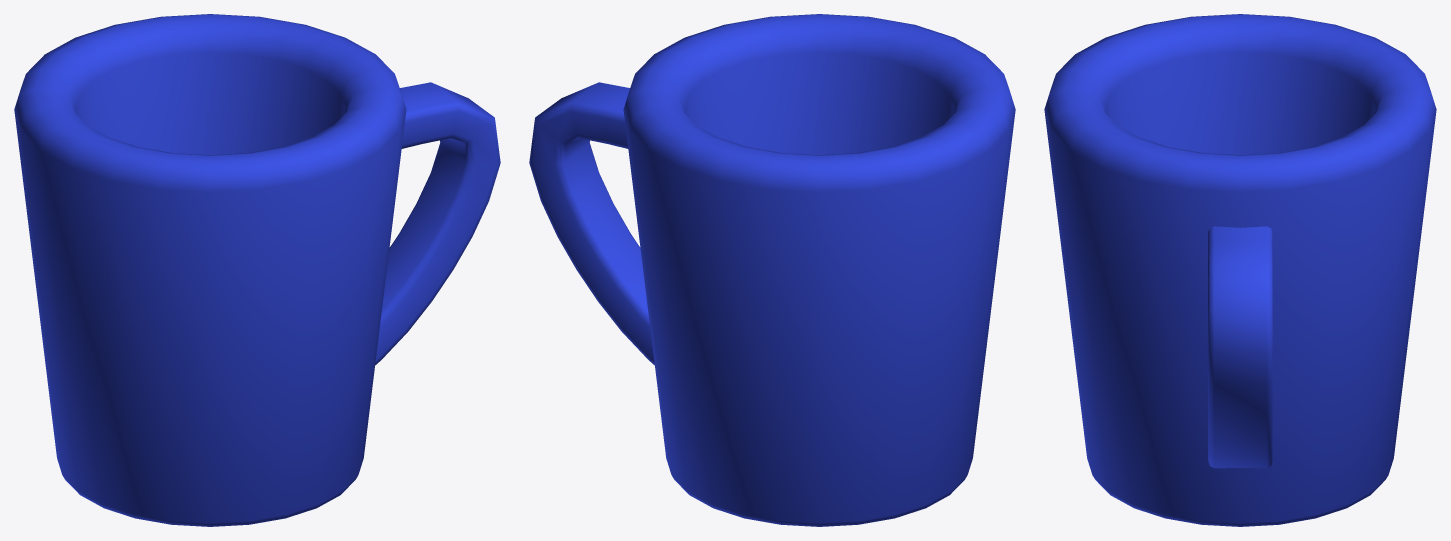
File: Mug4_blue.fbx
3 views of the same model, side by side, from view 1: azimuth 30°, elevation 25°; view 2: azimuth 150°, elevation 25°; view 3: azimuth 270°, elevation 25° (orthographic).
Parts seen in each view (by area): view 1: Mug4_Blue; view 2: Mug4_Blue; view 3: Mug4_Blue.
Boxes of the visible parts, x1,y1,x2,y2 form: Mug4_Blue: [14, 14, 500, 526]; Mug4_Blue: [529, 14, 1015, 526]; Mug4_Blue: [1044, 14, 1436, 526].
Size of the model in its own units: 16.62 by 13.4 by 12.64.
